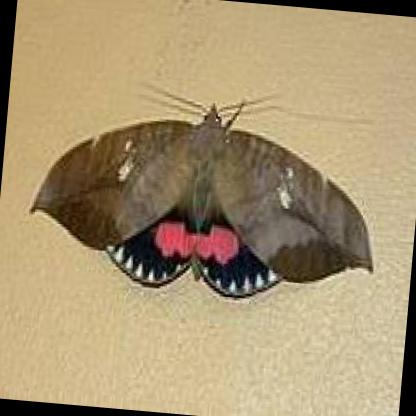fruit sucking moth: (30, 104, 372, 296)
